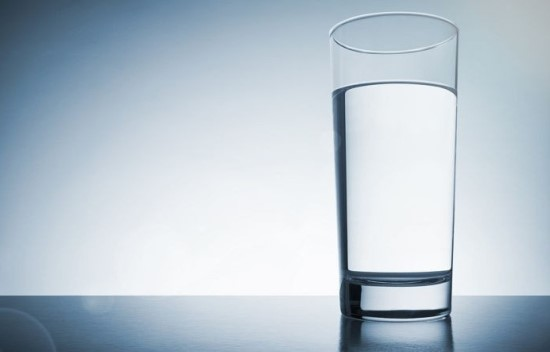glass of water: (334, 18, 455, 320)
